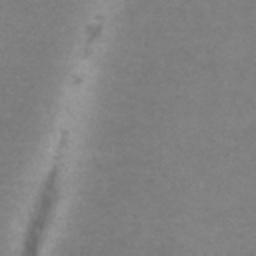Finishing roll printing: (22, 129, 70, 255), (83, 14, 104, 58), (72, 74, 82, 84)
